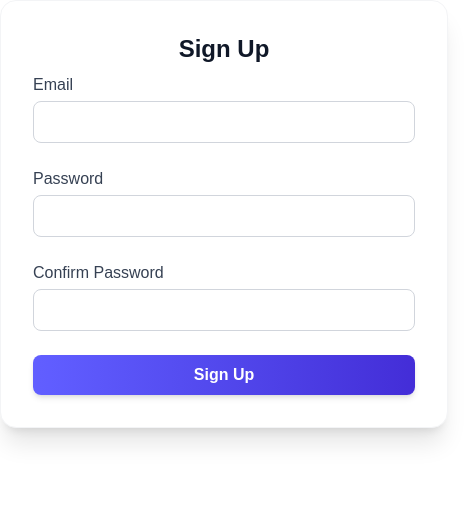
Test: SignupForm › shows error for invalid email format
Type "invalid-email" into the field labelled "Email" at (224, 122), box [33,101,415,143]
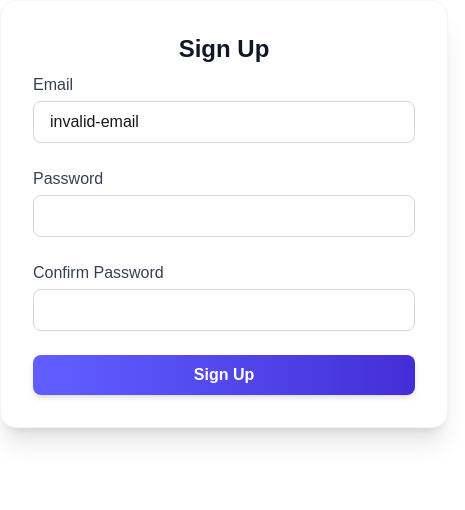
Type "password123" into the password field labelled "Password" at (224, 216), box [33,195,415,237]
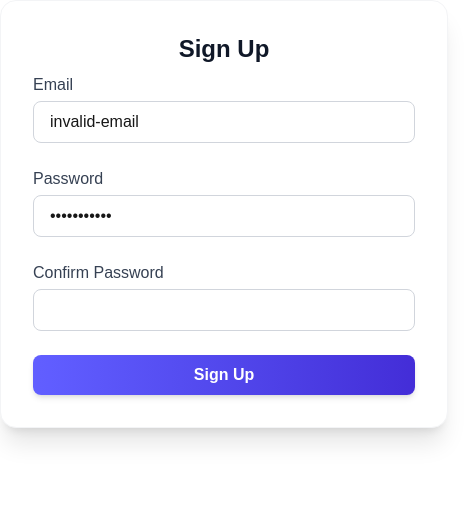
Type "password123" into the password field labelled "Confirm Password" at (224, 310), box [33,289,415,331]
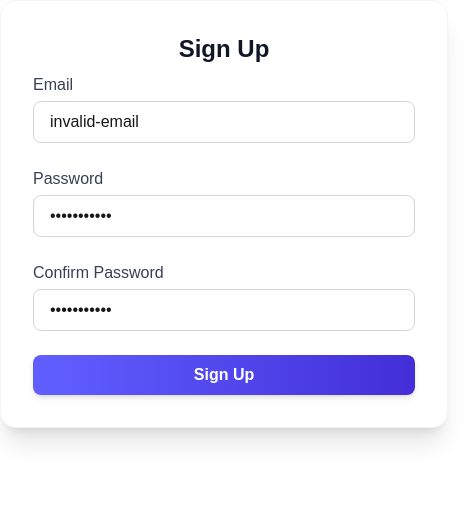
Submit the form
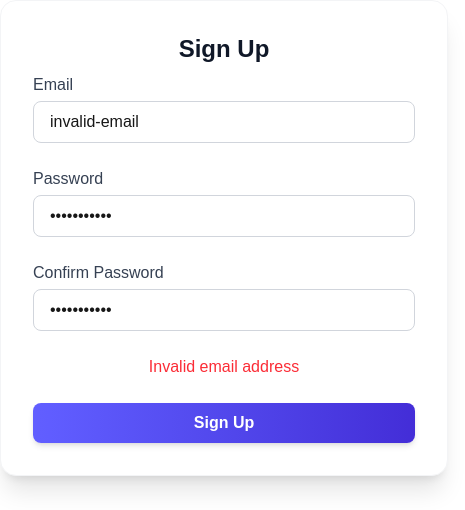
Expected: the text "Invalid email address" is shown, [149,358,299,375]
